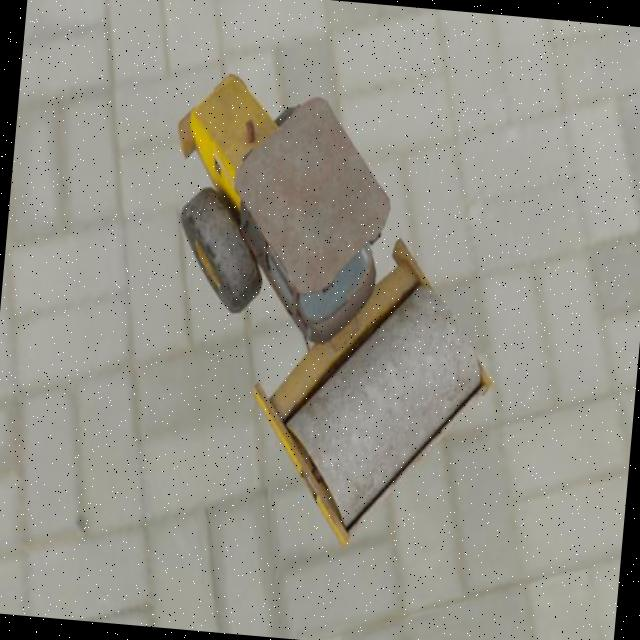Roller: (140, 67, 517, 558)
